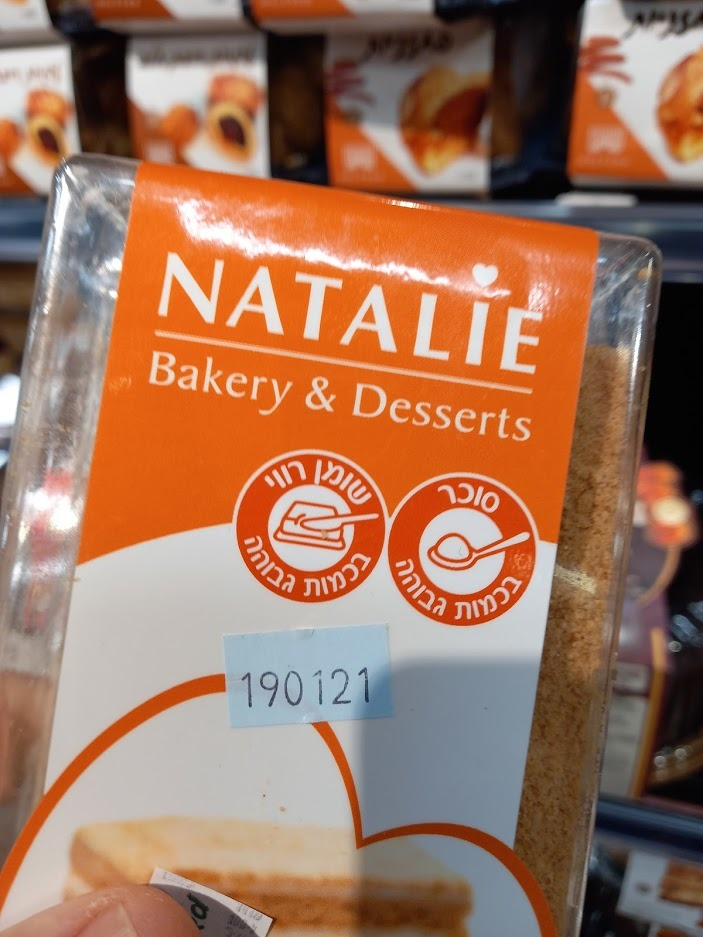fat: (231, 448, 390, 606)
sugar: (384, 471, 541, 627)
